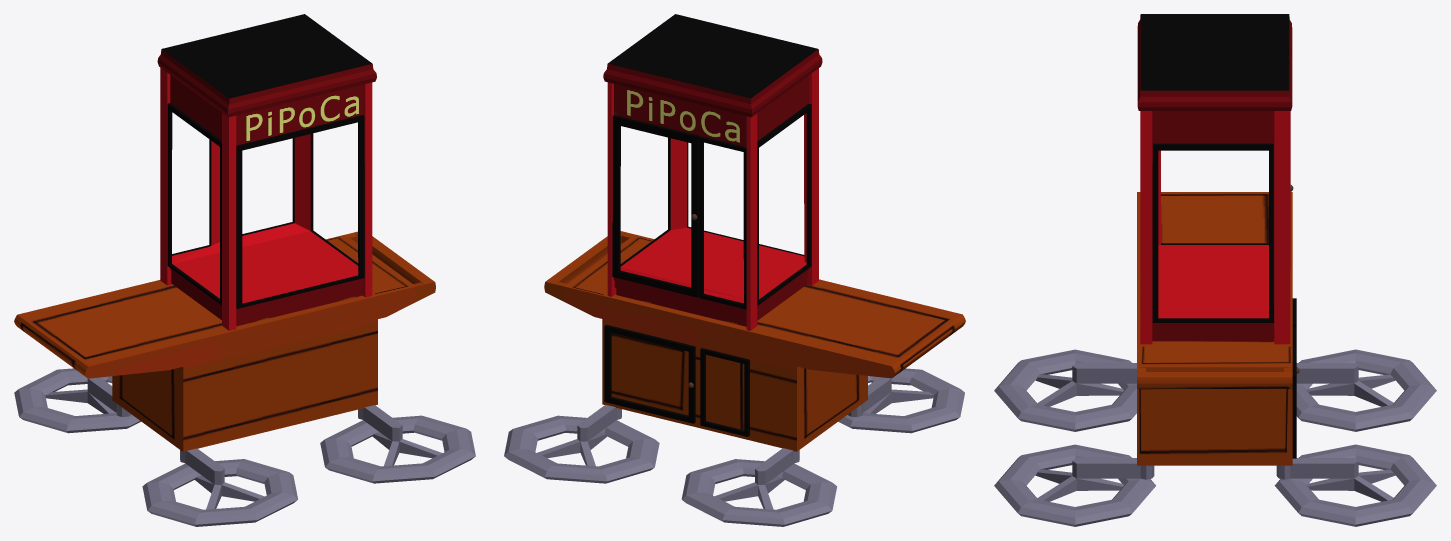
File: pipoca.fbx
3 views of the same model, side by side, from view 1: azimuth 30°, elevation 25°; view 2: azimuth 150°, elevation 25°; view 3: azimuth 270°, elevation 25° (orthographic). The views are drawn at different scales.
Parts seen in each view (by area): view 1: carinhodepipoca; view 2: carinhodepipoca; view 3: carinhodepipoca.
Part boxes in pixels (x1,y1,x2,y2): carinhodepipoca: (14, 14, 475, 526); carinhodepipoca: (504, 14, 965, 526); carinhodepipoca: (994, 14, 1436, 526).
Bounding box in the file's own units: 101 × 99.94 × 99.35.
